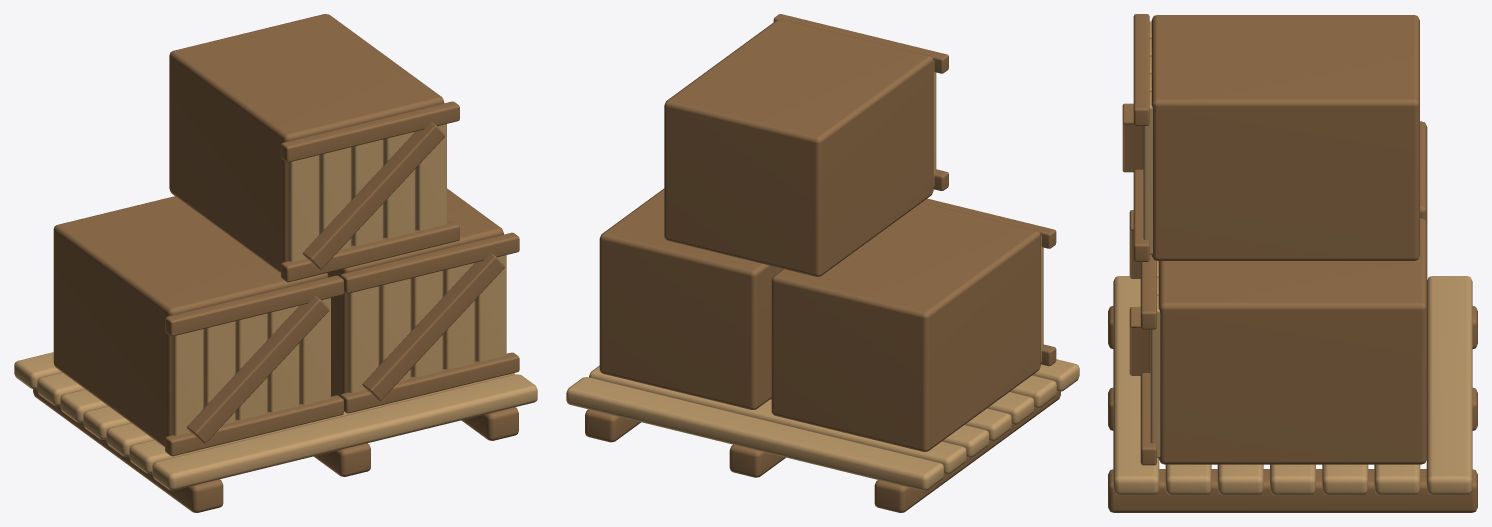
The model's file is pallet.glb.
The picture shows the model from 3 angles, left to right: view 1: azimuth 30°, elevation 25°; view 2: azimuth 150°, elevation 25°; view 3: azimuth 270°, elevation 25°; orthographic projection. The views are drawn at different scales.
Visible parts, largest first — view 1: Crate core.002, Crate core, Pallet deck, Crate brace.002, Crate brace.001, Crate brace, Crate core.001, Crate batten.005, Crate batten.001, Crate batten.003, Crate batten.004, Crate batten (+25 smaller); view 2: Crate core.002, Crate core, Crate core.001, Pallet deck.006, Pallet deck.005, Pallet runner, Crate batten.005, Pallet runner.001, Pallet runner.002, Crate batten.001, Pallet deck.004, Pallet deck.001 (+3 smaller); view 3: Crate core.002, Crate core.001, Pallet deck.006, Pallet runner.002, Pallet deck, Crate batten.005, Pallet deck.002, Pallet deck.004, Pallet deck.001, Pallet deck.005, Pallet deck.003, Crate card.009 (+10 smaller).
Part boxes in pixels (x1,y1,x2,y2): Crate core.002: (169, 14, 444, 273); Crate core: (53, 196, 328, 447); Pallet deck: (152, 374, 537, 490); Crate brace.002: (302, 122, 445, 269); Crate brace.001: (362, 253, 504, 400); Crate brace: (187, 296, 329, 443); Crate core.001: (327, 188, 503, 396); Crate batten.005: (281, 101, 459, 162); Crate batten.001: (165, 275, 343, 336); Crate batten.003: (340, 232, 519, 293); Crate batten.004: (281, 221, 459, 282); Crate batten: (165, 395, 343, 456); Crate core.002: (664, 19, 933, 276); Crate core: (771, 202, 1040, 451); Crate core.001: (599, 188, 782, 409); Pallet deck.006: (566, 377, 943, 490); Pallet deck.005: (589, 365, 966, 474); Pallet runner: (874, 391, 1060, 512); Crate batten.005: (773, 14, 948, 73); Pallet runner.001: (729, 444, 785, 477); Pallet runner.002: (585, 409, 640, 442); Crate batten.001: (922, 198, 1056, 248); Pallet deck.004: (770, 398, 989, 457); Pallet deck.001: (1010, 375, 1056, 408); Crate core.002: (1151, 15, 1419, 260); Crate core.001: (1158, 218, 1427, 464); Pallet deck.006: (1426, 276, 1472, 495); Pallet runner.002: (1108, 469, 1477, 512); Pallet deck: (1113, 276, 1159, 495); Crate batten.005: (1133, 14, 1149, 125); Pallet deck.002: (1217, 464, 1263, 495); Pallet deck.004: (1322, 464, 1368, 495); Pallet deck.001: (1165, 464, 1211, 495); Pallet deck.005: (1374, 464, 1420, 495); Pallet deck.003: (1270, 464, 1315, 495); Crate card.009: (1150, 295, 1160, 457).
Size of the model in its own units: 2 by 1.75 by 1.53.
